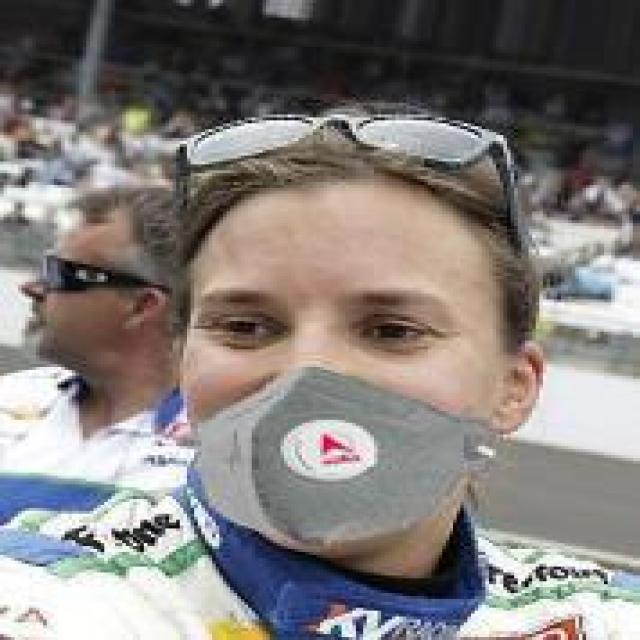mask: (162, 44, 546, 608)
